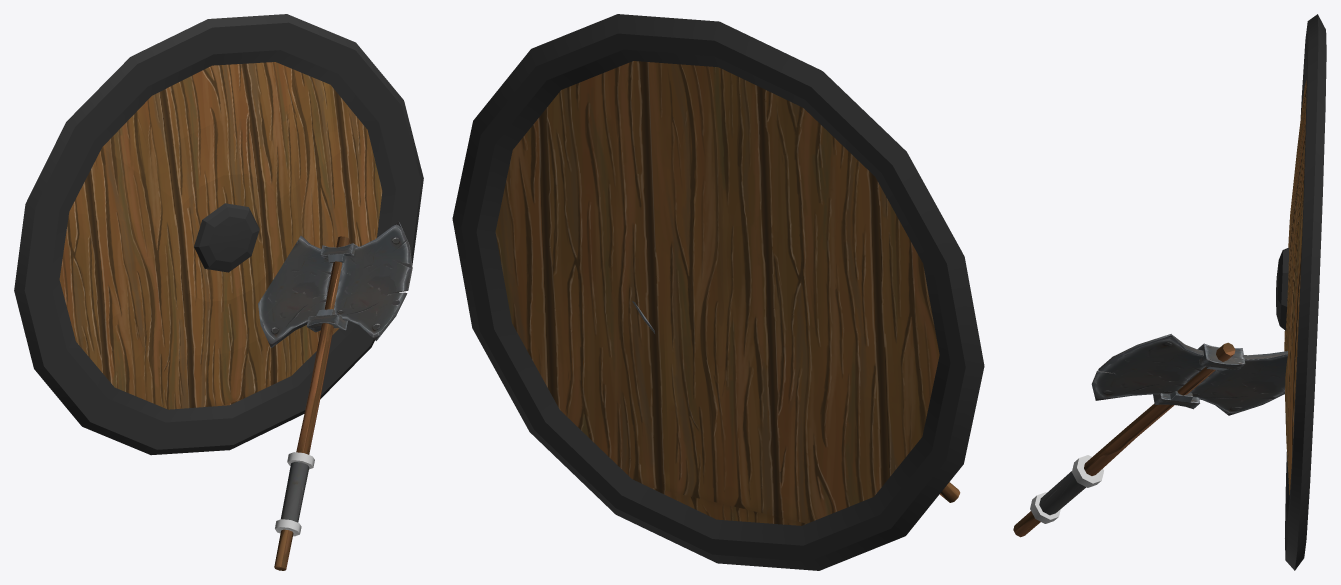
Rendered from Shield_2.fbx.
3 renders of one model, left to right at view 1: azimuth 30°, elevation 25°; view 2: azimuth 150°, elevation 25°; view 3: azimuth 270°, elevation 25°, orthographic. The views are drawn at different scales.
Visible parts, largest first — view 1: 1_Shield_2; view 2: 1_Shield_2; view 3: 1_Shield_2.
Boxes of the visible parts, x1=… form: 1_Shield_2: x1=14, y1=14, x2=423, y2=570; 1_Shield_2: x1=452, y1=14, x2=984, y2=570; 1_Shield_2: x1=1013, y1=14, x2=1326, y2=570.
Size of the model in its own units: 110 by 115 by 61.56.
